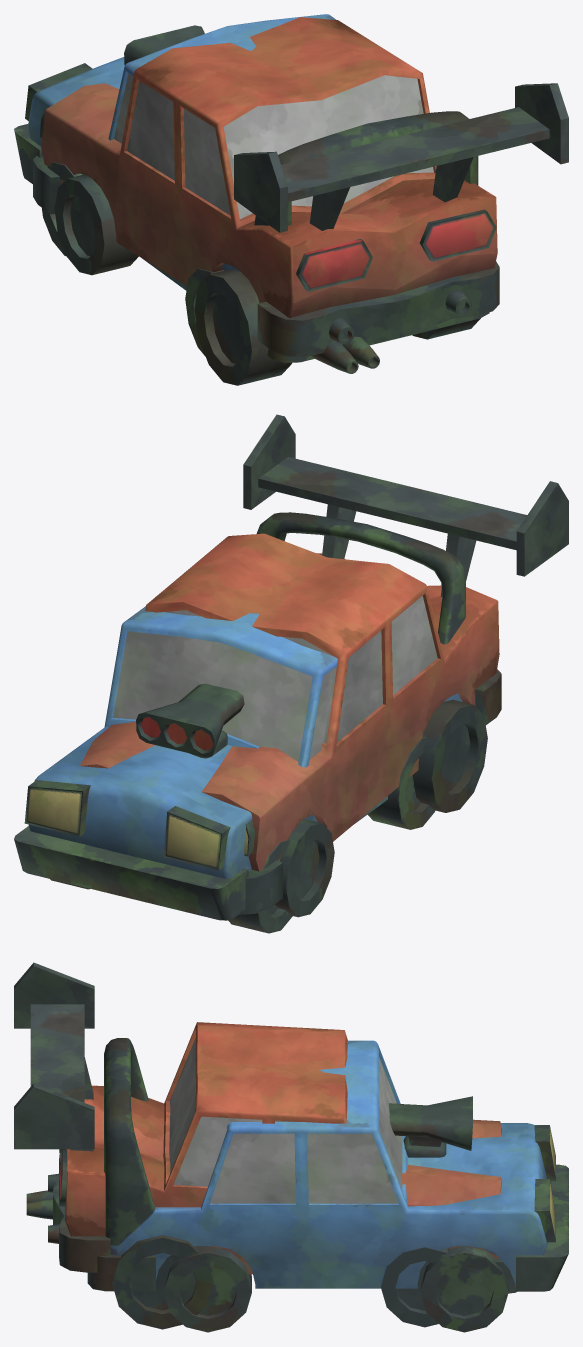
Rendered from Supers voitures.fbx.
3 views of the same model, one above another, from view 1: azimuth 30°, elevation 25°; view 2: azimuth 150°, elevation 25°; view 3: azimuth 270°, elevation 25° (orthographic). The views are drawn at different scales.
Parts seen in each view (by area): view 1: Voiture 2, Voiture 1; view 2: Voiture 2, Voiture 1; view 3: Voiture 1, Voiture 2.
Boxes of the visible parts, <box> form: Voiture 2: <box>33,17,568,385</box>; Voiture 1: <box>14,14,489,373</box>; Voiture 2: <box>80,414,568,917</box>; Voiture 1: <box>14,512,465,933</box>; Voiture 1: <box>26,1038,568,1332</box>; Voiture 2: <box>14,962,516,1329</box>.
Size of the model in its own units: 281 by 270 by 529.
